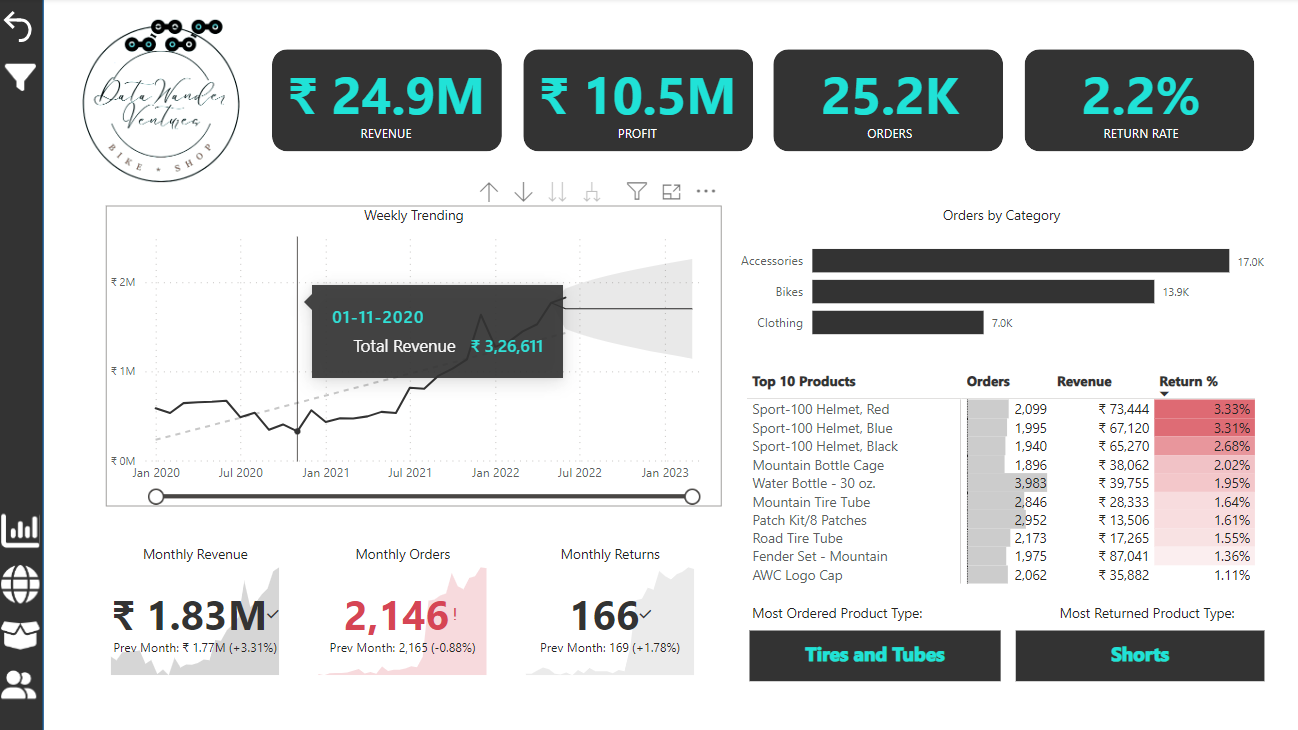

What the dashboard file says about the page in this screenshot:
{"tool":"powerbi","page":{"name":"Exec Dashboard","canvas":[1280,720],"ordinal":0},"visuals":[{"type":"image","title":"DW Logo","box":[67.2,14.7,185.8,172.4],"z":0},{"type":"card","fields":{"Values":["Measure Table.Total Profit"]},"box":[512.6,28.1,228.6,143],"z":0,"group":"g2"},{"type":"group","id":"g1","title":"KPI Backgrounds","box":[268.9,50.1,960.8,100.2],"z":0,"group":"g3"},{"type":"shape","box":[268.9,50.1,224.9,100.2],"z":0,"group":"g1"},{"type":"actionButton","box":[0,495.2,45.8,51.8],"z":0,"group":"g4"},{"type":"shape","title":"Left Nav Background","box":[0,0,45.2,720],"z":1000},{"type":"group","id":"g2","title":"KPI Values","box":[266.5,28.1,966.9,143],"z":1000,"group":"g3"},{"type":"card","fields":{"Values":["Measure Table.Return Rate"]},"box":[1004.8,28.1,228.6,143],"z":1000,"group":"g2"},{"type":"shape","box":[759.5,50.1,224.9,100.2],"z":1000,"group":"g1"},{"type":"actionButton","box":[0,548.6,45.8,49.4],"z":1000,"group":"g4"},{"type":"group","id":"g3","title":"KPIs","box":[266.5,28.1,966.9,143],"z":2000},{"type":"card","title":"Card","fields":{"Values":["Measure Table.Total Orders"]},"box":[758.7,28.1,228.6,143],"z":2000,"group":"g2"},{"type":"shape","box":[1004.8,50.1,224.9,100.2],"z":2000,"group":"g1"},{"type":"actionButton","box":[0,599.6,45.8,49.4],"z":2000,"group":"g4"},{"type":"card","fields":{"Values":["Measure Table.Total Revenue"]},"box":[266.5,28.1,228.6,143],"z":3000,"group":"g2"},{"type":"shape","box":[514.2,50.1,224.9,100.2],"z":3000,"group":"g1"},{"type":"lineChart","title":"Weekly Trending","fields":{"Y":["Measure Table.Total Revenue"],"Category":["Calendar Lookup.Year","Calendar Lookup.Start of Quarter","Calendar Lookup.Start of Month"]},"box":[106,202.4,602.4,295.2],"z":3000},{"type":"actionButton","box":[0,650.6,45.8,42.2],"z":3000,"group":"g4"},{"type":"kpi","title":"Monthly Revenue","fields":{"Indicator":["Measure Table.Total Revenue"],"TrendLine":["Calendar Lookup.Start of Month"],"Goal":["Measure Table.Previous Month Revenue"]},"box":[106.3,534.2,174.8,133.2],"z":4000},{"type":"kpi","title":"Monthly Orders","fields":{"TrendLine":["Calendar Lookup.Start of Month"],"Indicator":["Measure Table.Total Orders"],"Goal":["Measure Table.Previous Month Orders"]},"box":[309.3,534.2,174.8,133.2],"z":5000},{"type":"kpi","title":"Monthly Returns","fields":{"TrendLine":["Calendar Lookup.Start of Month"],"Indicator":["Measure Table.Total Returns"],"Goal":["Measure Table.Previous Month Returns"]},"box":[512.2,534.2,174.8,133.2],"z":6000},{"type":"clusteredBarChart","title":"Orders by Category","fields":{"Category":["Product Categories Lookup.CategoryName"],"Y":["Measure Table.Total Orders"]},"box":[717.6,202.9,529.3,144.2],"z":7000},{"type":"pivotTable","fields":{"Rows":["Product Lookup.ProductName"],"Values":["Measure Table.Total Orders","Measure Table.Total Revenue","Measure Table.Return Rate"]},"box":[728.9,360.2,510.8,219.3],"z":8000},{"type":"card","fields":{"Values":["Min(Product Subcategories Lookup.SubcategoryName)"]},"box":[736.1,618.1,245.8,49.4],"z":9000},{"type":"textbox","box":[733.7,586.7,209.6,30.1],"z":10000},{"type":"card","fields":{"Values":["Min(Product Subcategories Lookup.SubcategoryName)"]},"box":[996.4,618.1,243.4,49.4],"z":11000},{"type":"textbox","box":[1033.7,586.7,209.6,31.3],"z":12000},{"type":"actionButton","box":[0,7.2,45.8,41],"z":13000},{"type":"group","id":"g4","title":"Navigation Buttons","box":[0,495.2,45.8,197.6],"z":14000},{"type":"actionButton","box":[3.6,41,38.6,72.3],"z":15000}]}

Visuals, with their boxes on the page's 1280x720 design canvas (x1, y1, x2, y2). These are canvas units, not pixel positions in the 1298x730 screenshot, which may show the page scaled, cropped or inside an application window:
"DW Logo" image: bbox=[67, 15, 253, 187]
card - Measure Table.Total Profit: bbox=[513, 28, 741, 171]
"KPI Backgrounds" group: bbox=[269, 50, 1230, 150]
shape: bbox=[269, 50, 494, 150]
actionButton: bbox=[0, 495, 46, 547]
"Left Nav Background" shape: bbox=[0, 0, 45, 720]
"KPI Values" group: bbox=[266, 28, 1233, 171]
card - Measure Table.Return Rate: bbox=[1005, 28, 1233, 171]
shape: bbox=[760, 50, 984, 150]
actionButton: bbox=[0, 549, 46, 598]
"KPIs" group: bbox=[266, 28, 1233, 171]
"Card" card: bbox=[759, 28, 987, 171]
shape: bbox=[1005, 50, 1230, 150]
actionButton: bbox=[0, 600, 46, 649]
card - Measure Table.Total Revenue: bbox=[266, 28, 495, 171]
shape: bbox=[514, 50, 739, 150]
"Weekly Trending" lineChart: bbox=[106, 202, 708, 498]
actionButton: bbox=[0, 651, 46, 693]
"Monthly Revenue" kpi: bbox=[106, 534, 281, 667]
"Monthly Orders" kpi: bbox=[309, 534, 484, 667]
"Monthly Returns" kpi: bbox=[512, 534, 687, 667]
"Orders by Category" clusteredBarChart: bbox=[718, 203, 1247, 347]
pivotTable - Product Lookup.ProductName x Measure Table.Total Orders: bbox=[729, 360, 1240, 580]
card - Min(Product Subcategories Lookup.SubcategoryName): bbox=[736, 618, 982, 668]
textbox: bbox=[734, 587, 943, 617]
card - Min(Product Subcategories Lookup.SubcategoryName): bbox=[996, 618, 1240, 668]
textbox: bbox=[1034, 587, 1243, 618]
actionButton: bbox=[0, 7, 46, 48]
"Navigation Buttons" group: bbox=[0, 495, 46, 693]
actionButton: bbox=[4, 41, 42, 113]
